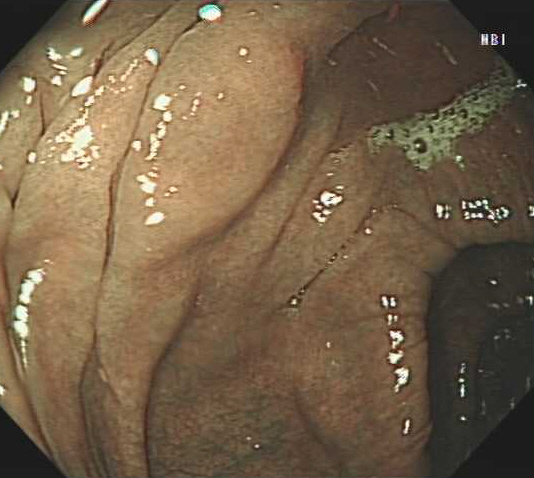others: (118, 27, 303, 258)
